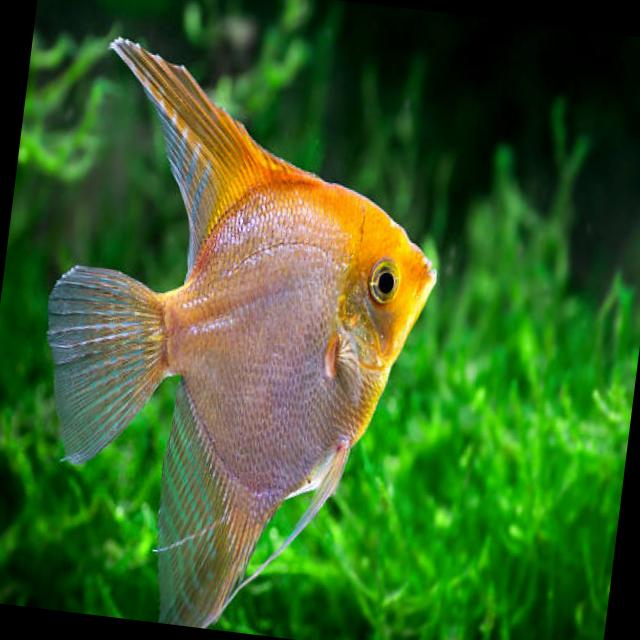AngelFish: (13, 31, 462, 640)
